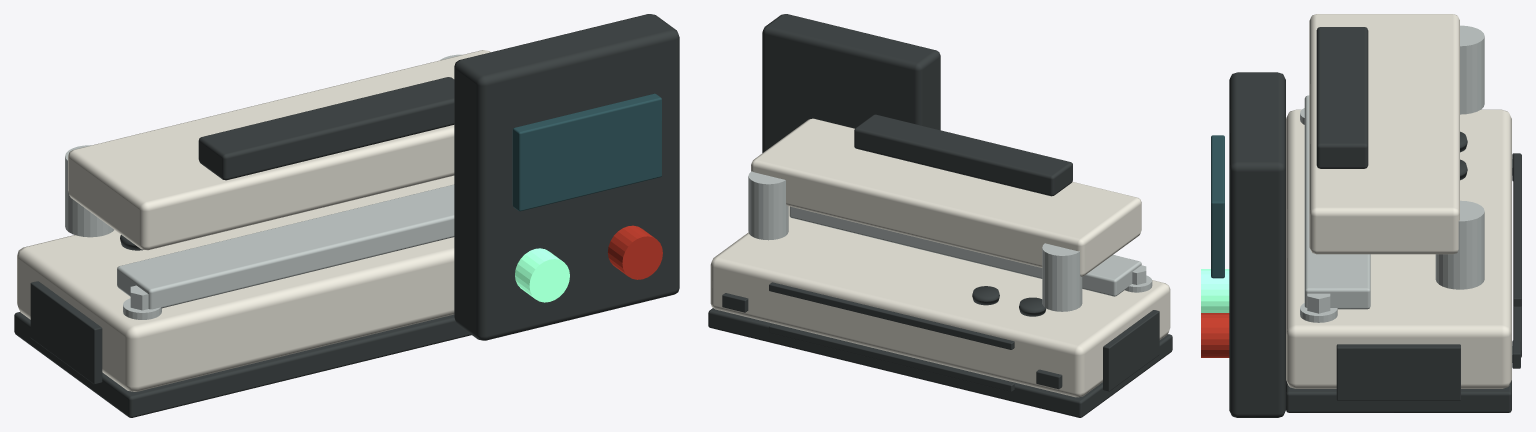
File: tea-garden-and-processing-house-tea-garden-and-process-267f0508__30794.glb
3 renders of one model, left to right at view 1: azimuth 30°, elevation 25°; view 2: azimuth 150°, elevation 25°; view 3: azimuth 270°, elevation 25°, orthographic. The views are drawn at different scales.
Visible parts, largest first — view 1: tea-garden-and-processing-house-pouch-sealing-press; view 2: tea-garden-and-processing-house-pouch-sealing-press; view 3: tea-garden-and-processing-house-pouch-sealing-press.
Part boxes in pixels (x1,y1,x2,y2): tea-garden-and-processing-house-pouch-sealing-press: (14,14,679,417); tea-garden-and-processing-house-pouch-sealing-press: (708,14,1172,417); tea-garden-and-processing-house-pouch-sealing-press: (1201,14,1521,417).
Size of the model in its own units: 0.631 by 0.32 by 0.3405.
